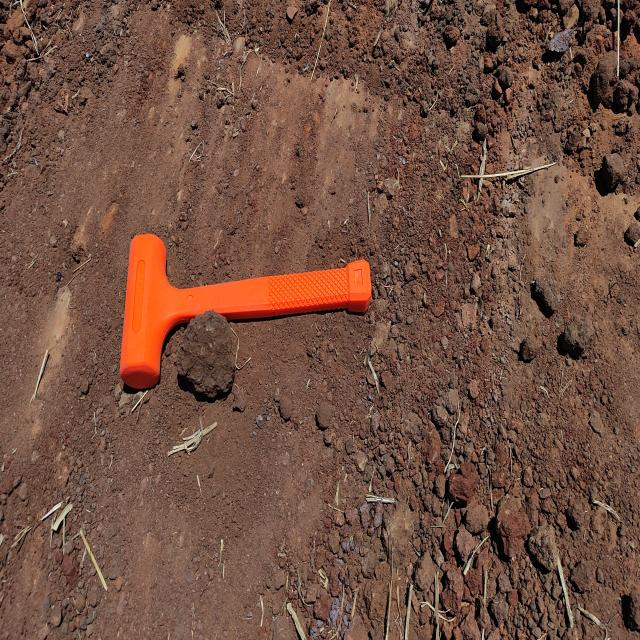Orange_hammer: (119, 231, 372, 391)
rock: (176, 313, 243, 401), (527, 267, 567, 334), (493, 495, 533, 561), (448, 458, 476, 513), (52, 543, 82, 593)
